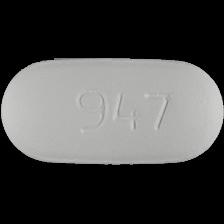0093-7147: (0, 0, 224, 224)
